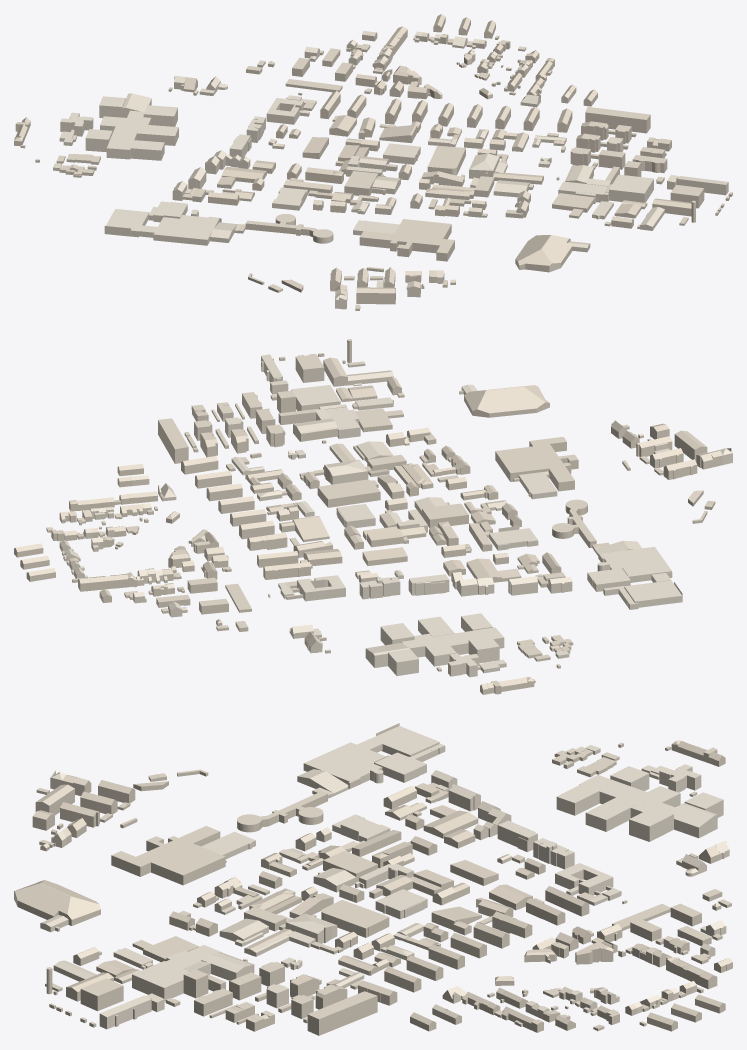
3 renders of one model, top to bottom at view 1: azimuth 30°, elevation 25°; view 2: azimuth 150°, elevation 25°; view 3: azimuth 270°, elevation 25°, orthographic. The views are drawn at different scales.
Bounding box in the file's own units: 651 × 36.67 × 641.
